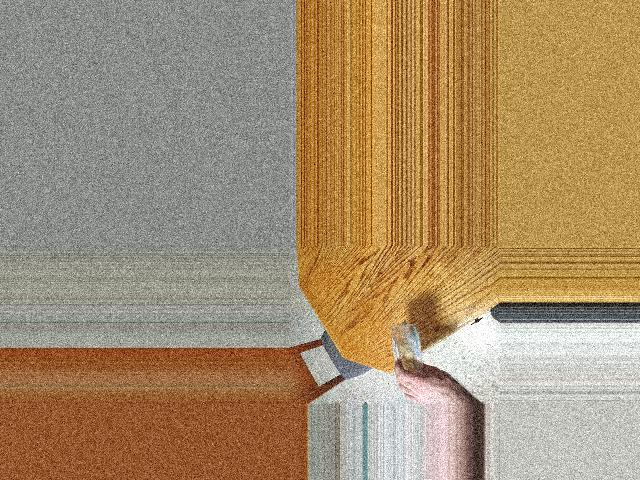cheese: (379, 322, 447, 389)
